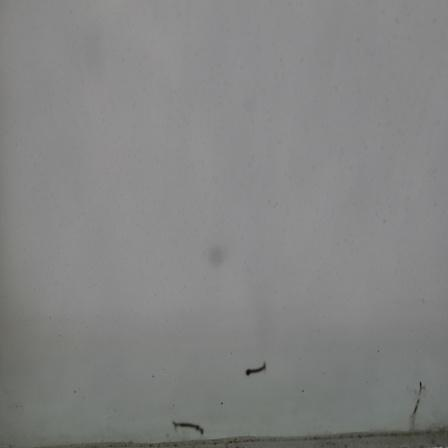Jentik-Nyamuk: (170, 418, 208, 438), (242, 358, 269, 378)
